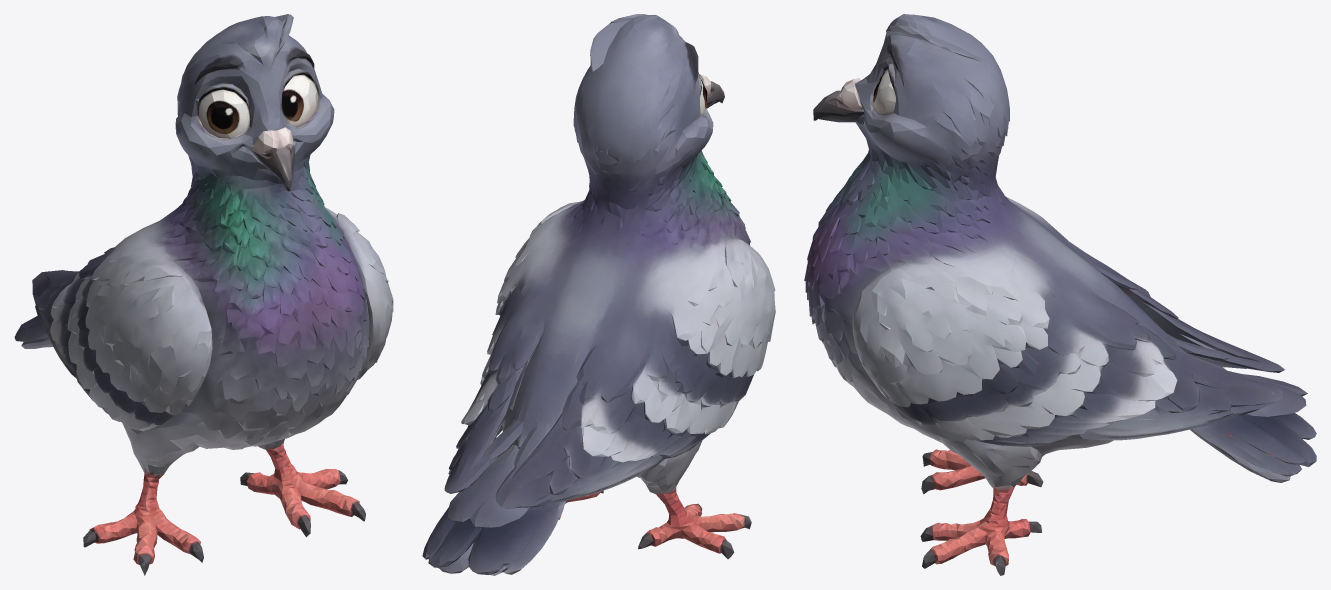
Rendered from pigeon.glb.
The picture shows the model from 3 angles, left to right: view 1: azimuth 30°, elevation 25°; view 2: azimuth 150°, elevation 25°; view 3: azimuth 270°, elevation 25°; orthographic projection. The views are drawn at different scales.
Parts seen in each view (by area): view 1: model; view 2: model; view 3: model.
Boxes of the visible parts, bbox=[...] form: model: bbox=[14, 14, 393, 575]; model: bbox=[422, 14, 775, 575]; model: bbox=[804, 14, 1316, 575].
Size of the model in its own units: 0.9909 by 1.9 by 1.74.
1 material, 1 textured.
